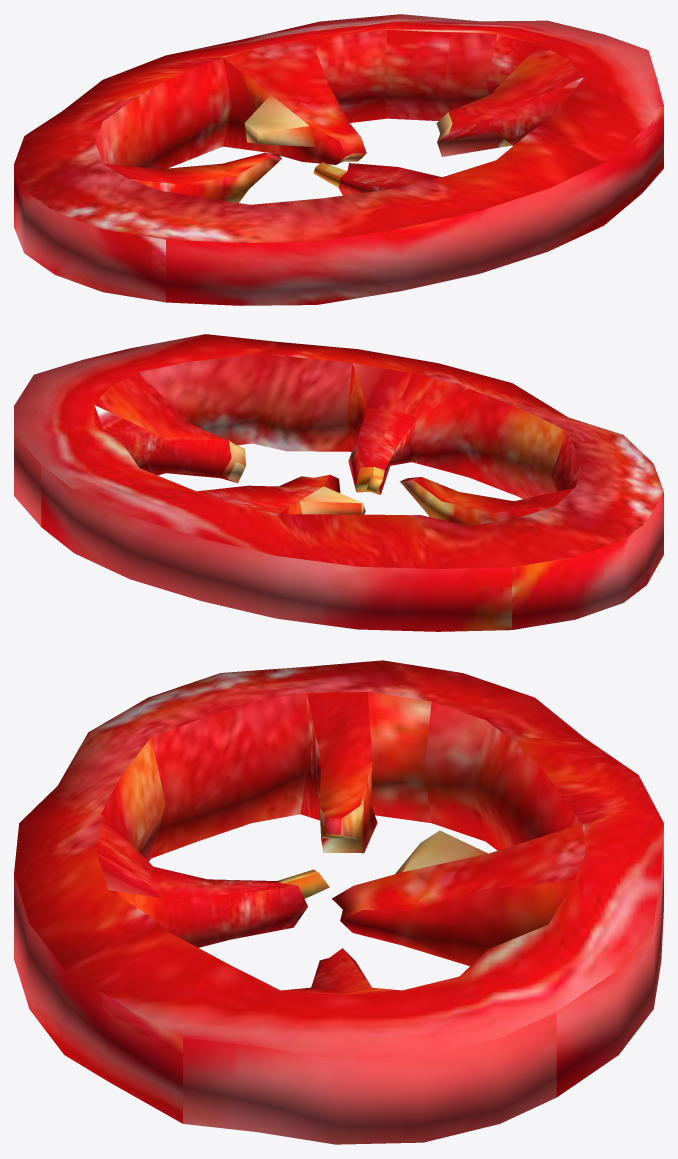
The model's file is hot_pepper.fbx.
The picture shows the model from 3 angles, top to bottom: view 1: azimuth 30°, elevation 25°; view 2: azimuth 150°, elevation 25°; view 3: azimuth 270°, elevation 25°; orthographic projection. The views are drawn at different scales.
Visible parts, largest first — view 1: hot_pepper; view 2: hot_pepper; view 3: hot_pepper.
Part boxes in pixels (x1,y1,x2,y2): hot_pepper: (14, 14, 663, 305); hot_pepper: (14, 334, 663, 631); hot_pepper: (14, 660, 663, 1144).
Bounding box in the file's own units: 5.69 × 0.866 × 3.86.
Materials: 1 (1 with a texture image).
